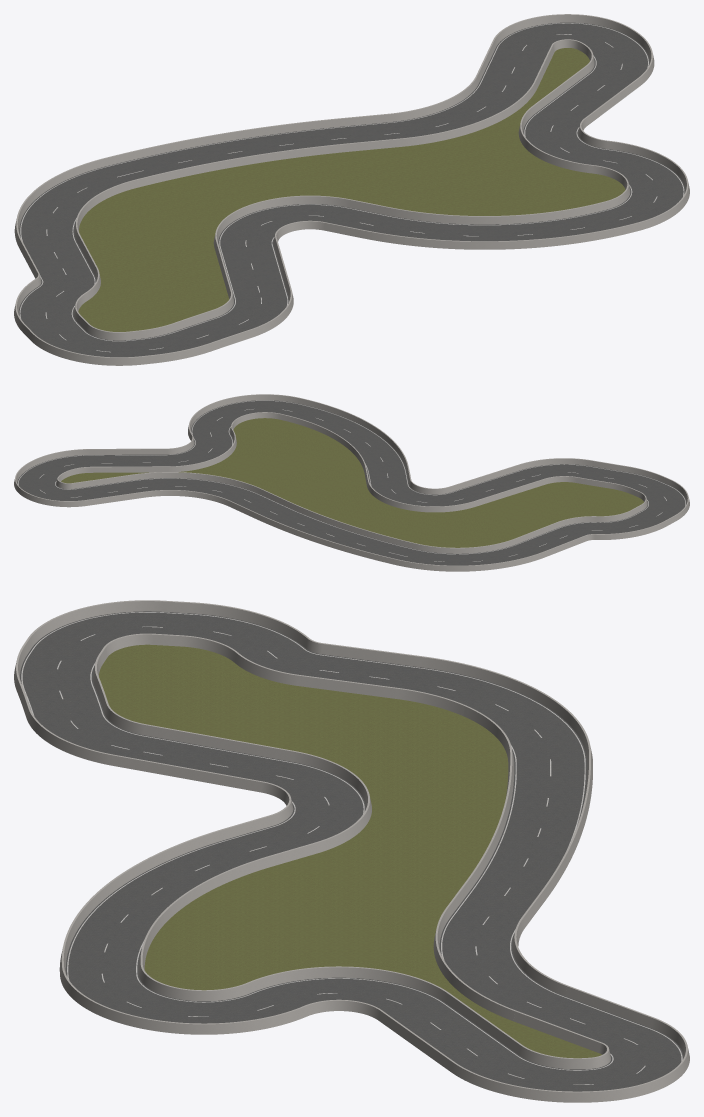
File: road_race.fbx
3 renders of one model, top to bottom at view 1: azimuth 30°, elevation 25°; view 2: azimuth 150°, elevation 25°; view 3: azimuth 270°, elevation 25°, orthographic. The views are drawn at different scales.
Visible parts, largest first — view 1: Terrain_Ground_Layer0_1Node, Road_Road_Layer0_1Node, Road_Road_Layer0Node, Terrain_Ground_Layer0Node, Prop_Layer0_10Node, Prop_Layer0_11Node, Prop_Layer0_8Node, Prop_Layer0_3Node, Prop_Layer0_9Node, Prop_Layer0_1Node, Prop_Layer0_2Node, Road_Marking_Layer0_1Node (+4 smaller); view 2: Terrain_Ground_Layer0_1Node, Road_Road_Layer0_1Node, Road_Road_Layer0Node, Terrain_Ground_Layer0Node, Prop_Layer0_10Node, Prop_Layer0_11Node, Prop_Layer0_8Node, Prop_Layer0_3Node, Prop_Layer0_9Node, Prop_Layer0_1Node, Prop_Layer0_5Node, Prop_Layer0_2Node (+6 smaller); view 3: Terrain_Ground_Layer0_1Node, Road_Road_Layer0_1Node, Road_Road_Layer0Node, Terrain_Ground_Layer0Node, Prop_Layer0_10Node, Prop_Layer0_11Node, Prop_Layer0_3Node, Prop_Layer0_1Node, Prop_Layer0_2Node, Prop_Layer0_5Node, Road_Marking_Layer0_1Node, Prop_Layer0_8Node (+6 smaller).
Part boxes in pixels (x1,y1,x2,y2): Terrain_Ground_Layer0_1Node: (79,48,606,304); Road_Road_Layer0_1Node: (18,22,660,319); Road_Road_Layer0Node: (21,163,685,357); Terrain_Ground_Layer0Node: (78,176,625,331); Prop_Layer0_10Node: (213,39,609,269); Prop_Layer0_11Node: (273,14,662,256); Prop_Layer0_8Node: (145,80,537,185); Prop_Layer0_3Node: (277,155,689,290); Prop_Layer0_9Node: (115,75,478,163); Prop_Layer0_1Node: (15,284,293,365); Prop_Layer0_2Node: (221,168,630,293); Road_Marking_Layer0_1Node: (19,23,659,318); Terrain_Ground_Layer0_1Node: (61,430,585,547); Road_Road_Layer0_1Node: (17,421,639,565); Road_Road_Layer0Node: (196,400,686,529); Terrain_Ground_Layer0Node: (233,418,643,516); Prop_Layer0_10Node: (56,424,506,512); Prop_Layer0_11Node: (14,415,466,507); Prop_Layer0_8Node: (130,472,408,547); Prop_Layer0_3Node: (194,394,513,486); Prop_Layer0_9Node: (144,490,387,562); Prop_Layer0_1Node: (512,458,689,532); Prop_Layer0_5Node: (387,540,574,571); Prop_Layer0_2Node: (231,412,538,496); Terrain_Ground_Layer0_1Node: (228,659,601,1058); Road_Road_Layer0_1Node: (228,618,683,1091); Road_Road_Layer0Node: (20,611,228,1023); Terrain_Ground_Layer0Node: (99,644,228,990); Prop_Layer0_10Node: (228,739,610,1069); Prop_Layer0_11Node: (228,775,689,1102); Prop_Layer0_3Node: (59,757,228,1034); Prop_Layer0_1Node: (14,600,228,768); Prop_Layer0_2Node: (138,726,228,1001); Prop_Layer0_5Node: (350,647,592,767); Road_Marking_Layer0_1Node: (228,618,682,1084); Prop_Layer0_8Node: (433,758,515,1021).
Size of the model in its own units: 119 by 68.6 by 1.07.
